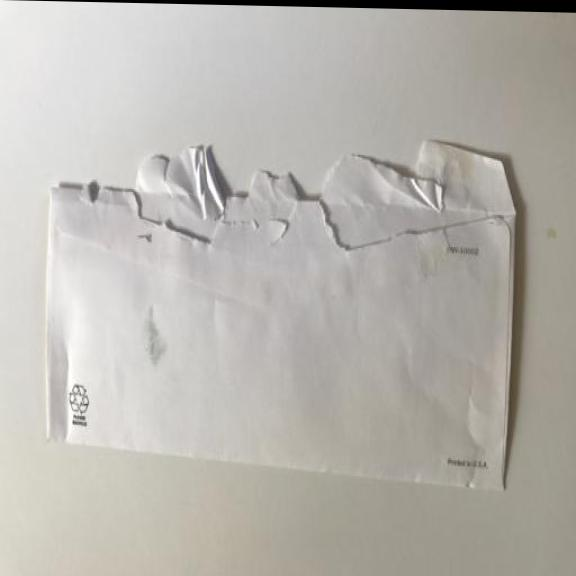Kertas: (38, 115, 521, 495)
